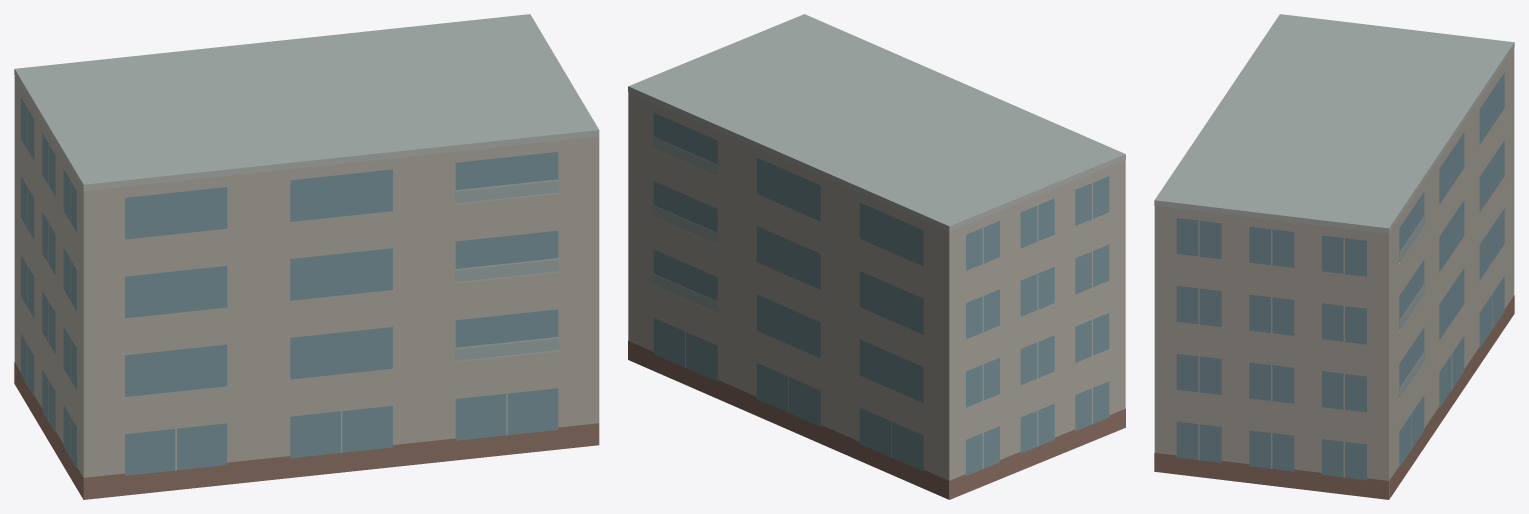
Rendered from residential-dcba0676-7246-40a6-b0ce-5c755c3cc506.glb.
The picture shows the model from 3 angles, left to right: view 1: azimuth 30°, elevation 25°; view 2: azimuth 150°, elevation 25°; view 3: azimuth 270°, elevation 25°; orthographic projection. The views are drawn at different scales.
Parts seen in each view (by area): view 1: residential-dcba0676-7246-40a6-b0ce-5c755c3cc506.tmp; view 2: residential-dcba0676-7246-40a6-b0ce-5c755c3cc506.tmp; view 3: residential-dcba0676-7246-40a6-b0ce-5c755c3cc506.tmp.
Part boxes in pixels (x1,y1,x2,y2): residential-dcba0676-7246-40a6-b0ce-5c755c3cc506.tmp: [14, 14, 599, 499]; residential-dcba0676-7246-40a6-b0ce-5c755c3cc506.tmp: [628, 14, 1125, 499]; residential-dcba0676-7246-40a6-b0ce-5c755c3cc506.tmp: [1154, 14, 1514, 499].
Bounding box in the file's own units: 20.67 × 12.2 × 14.67.
